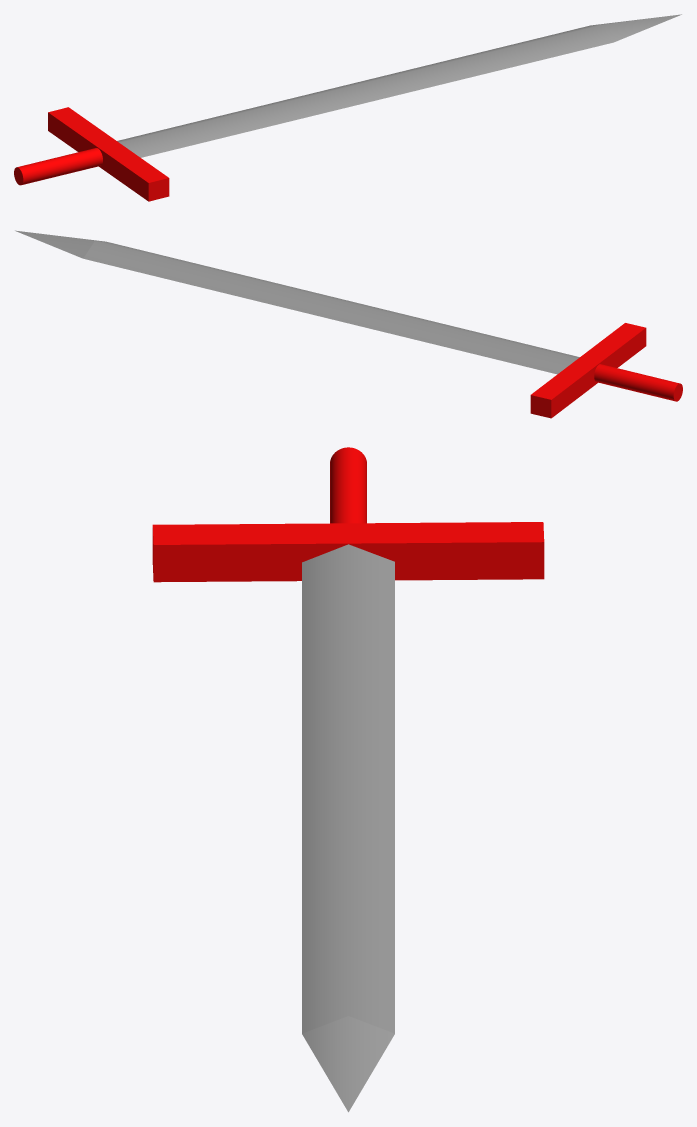
The model's file is sword.fbx.
3 renders of one model, top to bottom at view 1: azimuth 30°, elevation 25°; view 2: azimuth 150°, elevation 25°; view 3: azimuth 270°, elevation 25°, orthographic. The views are drawn at different scales.
Parts seen in each view (by area): view 1: BladeSide, Crossguard, Hilt, BladeTip; view 2: BladeSide, Crossguard, Hilt, BladeTip; view 3: BladeSide, Crossguard, BladeTip, Hilt.
Boxes of the visible parts, x1,y1,x2,y2 form: BladeSide: (117,25,613,157); Crossguard: (48,107,169,201); Hilt: (14,148,102,185); BladeTip: (593,14,681,42); BladeSide: (83,241,579,374); Crossguard: (530,323,646,418); Hilt: (594,364,682,401); BladeTip: (15,230,104,258); BladeSide: (302,544,394,1033); Crossguard: (152,522,544,582); BladeTip: (302,1016,394,1112); Hilt: (330,447,366,523).
Bounding box in the file's own units: 1645 × 44 × 420.
